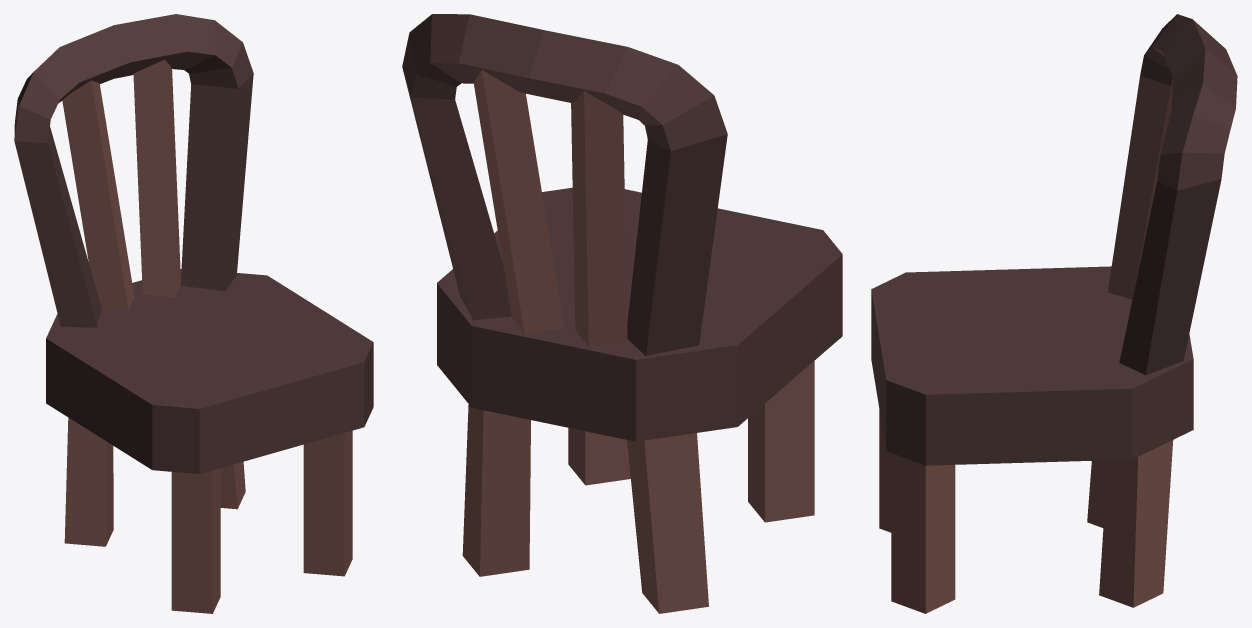
Rendered from DarkRoseWoodDecorationSmallChair1.fbx.
3 renders of one model, left to right at view 1: azimuth 30°, elevation 25°; view 2: azimuth 150°, elevation 25°; view 3: azimuth 270°, elevation 25°, orthographic. The views are drawn at different scales.
Visible parts, largest first — view 1: DarkRoseWoodDecorationSmallChair1; view 2: DarkRoseWoodDecorationSmallChair1; view 3: DarkRoseWoodDecorationSmallChair1.
Boxes of the visible parts, box(x1,y1,x2,y2) form: DarkRoseWoodDecorationSmallChair1: box(14, 14, 373, 613); DarkRoseWoodDecorationSmallChair1: box(402, 14, 842, 613); DarkRoseWoodDecorationSmallChair1: box(871, 14, 1237, 613).
Bounding box in the file's own units: 99.01 × 174 × 114.
